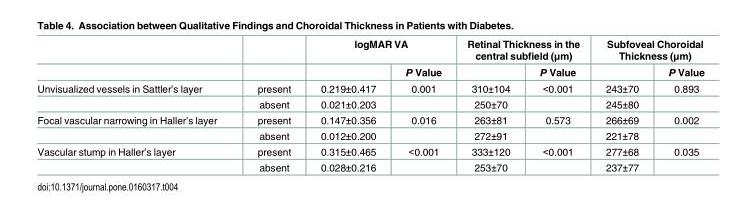table: (36, 37, 703, 172)
table column: (36, 37, 236, 172), (305, 37, 390, 172), (453, 37, 524, 172), (236, 37, 305, 172), (524, 37, 592, 172), (390, 37, 453, 172), (592, 37, 653, 172), (653, 37, 703, 172)
table column header: (36, 37, 703, 80)
table row: (36, 37, 703, 63), (36, 63, 703, 80), (36, 80, 703, 96), (36, 111, 703, 127), (36, 127, 703, 143), (36, 143, 703, 159), (36, 96, 703, 111), (36, 159, 703, 172)
table spanning cell: (36, 111, 236, 143), (36, 80, 236, 111), (36, 143, 236, 172), (305, 37, 453, 63), (453, 37, 592, 63), (592, 37, 703, 63)
